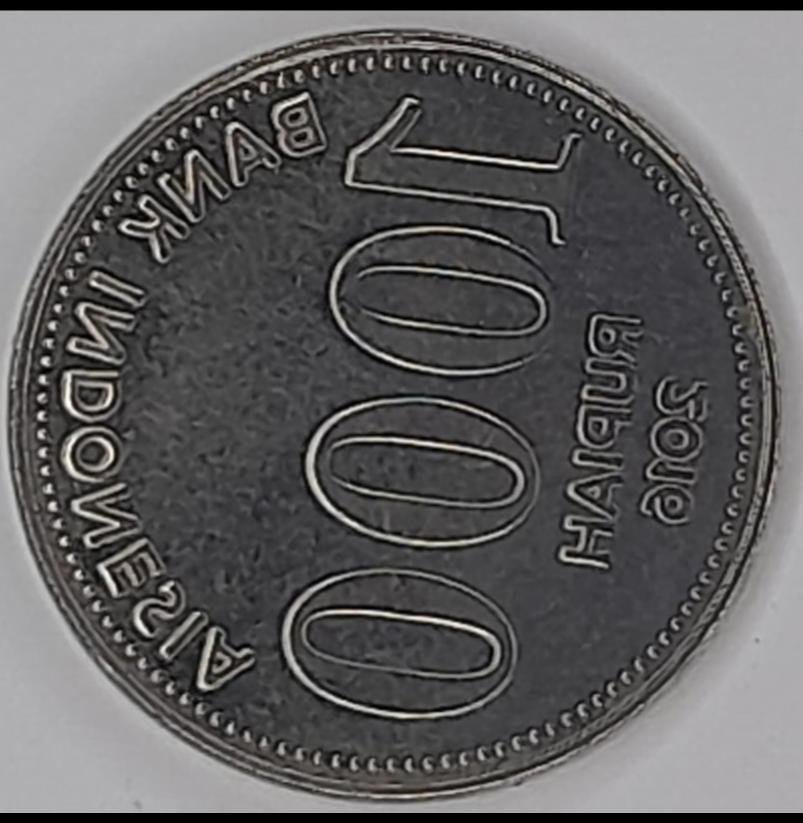coin_1000_e2016: (14, 16, 792, 823)
